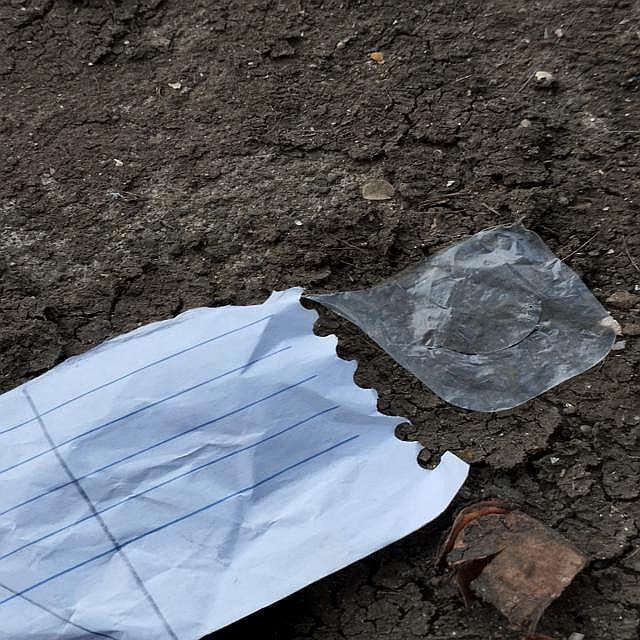Biodegradable: (1, 293, 393, 640)
Non-biodegradable: (304, 217, 638, 423)
